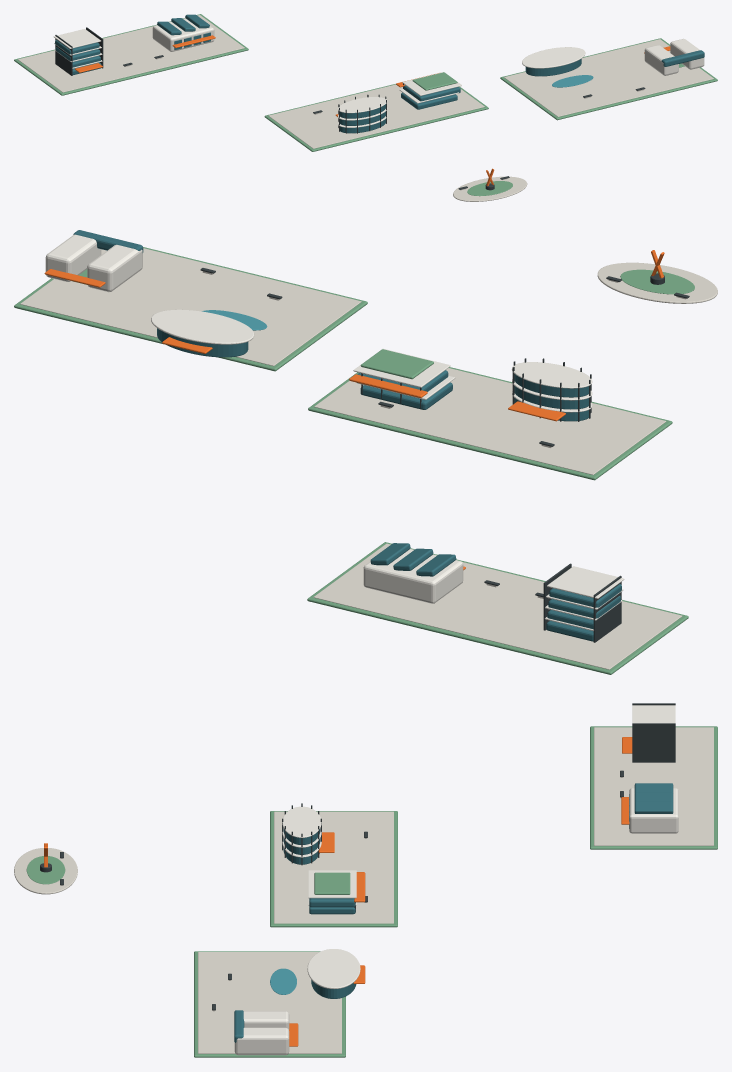
File: fado_ecosystem.glb
3 renders of one model, top to bottom at view 1: azimuth 30°, elevation 25°; view 2: azimuth 150°, elevation 25°; view 3: azimuth 270°, elevation 25°, orthographic. The views are drawn at different scales.
Parts seen in each view (by area): view 1: ECOSYSTEM_BATCH_Warm architectural stone, ECOSYSTEM_BATCH_Warm white facade, ECOSYSTEM_BATCH_Landscape, ECOSYSTEM_BATCH_Curtain wall glass, ECOSYSTEM_BATCH_Charcoal structure, ECOSYSTEM_BATCH_FADO orange accent, ECOSYSTEM_BATCH_Reflecting water; view 2: ECOSYSTEM_BATCH_Warm architectural stone, ECOSYSTEM_BATCH_Warm white facade, ECOSYSTEM_BATCH_Landscape, ECOSYSTEM_BATCH_Curtain wall glass, ECOSYSTEM_BATCH_Charcoal structure, ECOSYSTEM_BATCH_FADO orange accent; view 3: ECOSYSTEM_BATCH_Warm architectural stone, ECOSYSTEM_BATCH_Warm white facade, ECOSYSTEM_BATCH_Landscape, ECOSYSTEM_BATCH_Curtain wall glass, ECOSYSTEM_BATCH_Charcoal structure, ECOSYSTEM_BATCH_FADO orange accent, ECOSYSTEM_BATCH_Reflecting water.
Boxes of the visible parts, x1,y1,x2,y2 form: ECOSYSTEM_BATCH_Warm architectural stone: [18, 15, 713, 201]; ECOSYSTEM_BATCH_Warm white facade: [53, 18, 704, 127]; ECOSYSTEM_BATCH_Landscape: [14, 14, 717, 196]; ECOSYSTEM_BATCH_Curtain wall glass: [55, 14, 704, 133]; ECOSYSTEM_BATCH_Charcoal structure: [55, 27, 645, 190]; ECOSYSTEM_BATCH_FADO orange accent: [75, 35, 670, 186]; ECOSYSTEM_BATCH_Reflecting water: [552, 75, 593, 87]; ECOSYSTEM_BATCH_Warm architectural stone: [20, 248, 717, 669]; ECOSYSTEM_BATCH_Warm white facade: [45, 234, 624, 631]; ECOSYSTEM_BATCH_Landscape: [14, 247, 694, 674]; ECOSYSTEM_BATCH_Curtain wall glass: [73, 230, 621, 641]; ECOSYSTEM_BATCH_Charcoal structure: [200, 268, 689, 642]; ECOSYSTEM_BATCH_FADO orange accent: [44, 250, 664, 570]; ECOSYSTEM_BATCH_Warm architectural stone: [14, 727, 713, 1053]; ECOSYSTEM_BATCH_Warm white facade: [234, 705, 678, 1055]; ECOSYSTEM_BATCH_Landscape: [26, 726, 717, 1057]; ECOSYSTEM_BATCH_Curtain wall glass: [234, 783, 673, 1042]; ECOSYSTEM_BATCH_Charcoal structure: [40, 703, 675, 1010]; ECOSYSTEM_BATCH_FADO orange accent: [44, 737, 632, 1046]; ECOSYSTEM_BATCH_Reflecting water: [270, 968, 296, 994].
Bounding box in the file's own units: 97.95 × 5.79 × 88.
